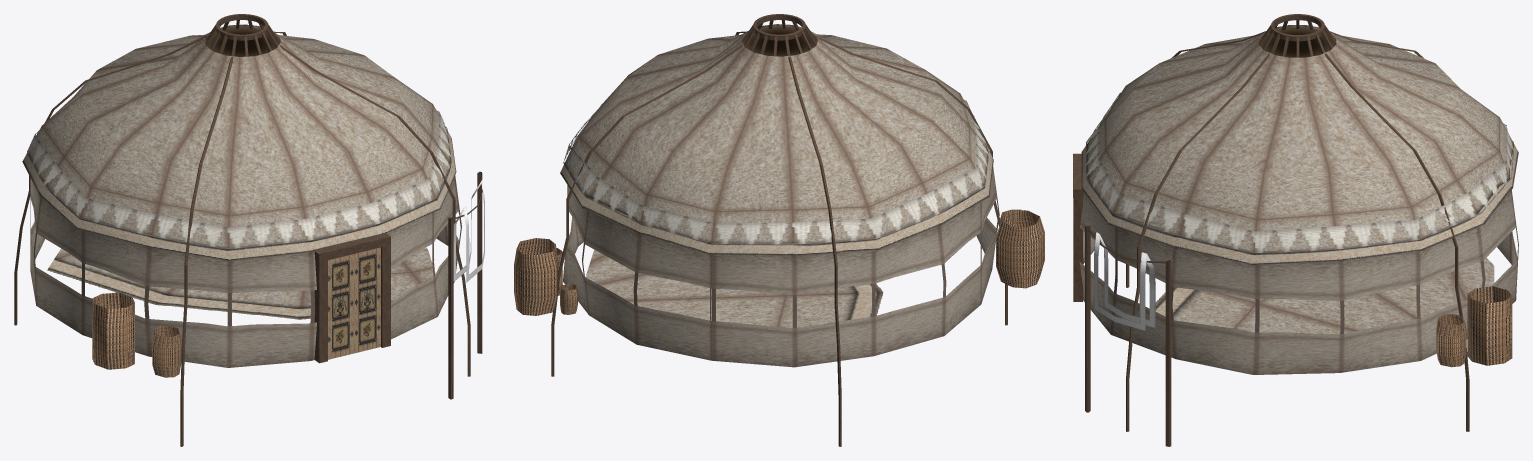
File: step_house_01_01.dae
3 views of the same model, side by side, from view 1: azimuth 30°, elevation 25°; view 2: azimuth 150°, elevation 25°; view 3: azimuth 270°, elevation 25° (orthographic). The views are drawn at different scales.
Parts seen in each view (by area): view 1: Yurt-Roof.003; view 2: Yurt-Roof.003; view 3: Yurt-Roof.003.
Boxes of the visible parts, x1,y1,x2,y2 form: Yurt-Roof.003: (14,14,484,446); Yurt-Roof.003: (514,14,1044,446); Yurt-Roof.003: (1073,14,1518,446).
Bounding box in the file's own units: 15.17 × 14.59 × 12.06.
